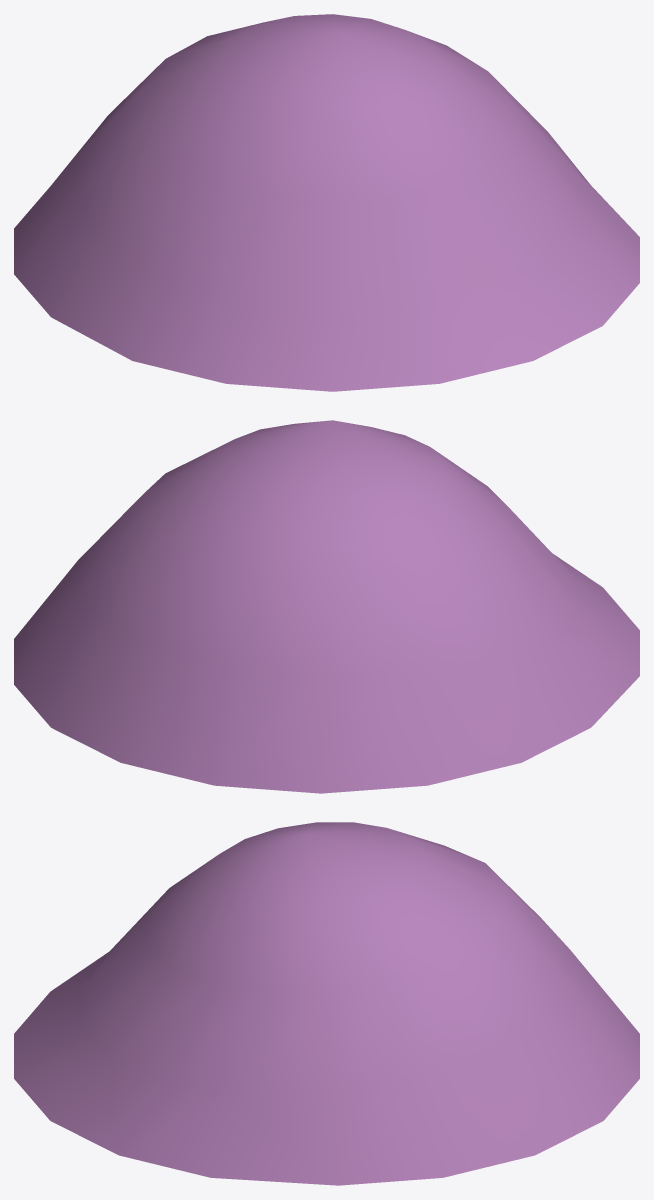
File: Tas_de_Dechet_01.fbx
The picture shows the model from 3 angles, top to bottom: view 1: azimuth 30°, elevation 25°; view 2: azimuth 150°, elevation 25°; view 3: azimuth 270°, elevation 25°; orthographic projection.
Visible parts, largest first — view 1: Tas_de_Dechet_01; view 2: Tas_de_Dechet_01; view 3: Tas_de_Dechet_01.
Part boxes in pixels (box(x1,y1,x2,y2)): Tas_de_Dechet_01: box(14, 14, 639, 391); Tas_de_Dechet_01: box(14, 420, 639, 793); Tas_de_Dechet_01: box(14, 822, 639, 1185).
Size of the model in its own units: 1035 by 417 by 1058.
